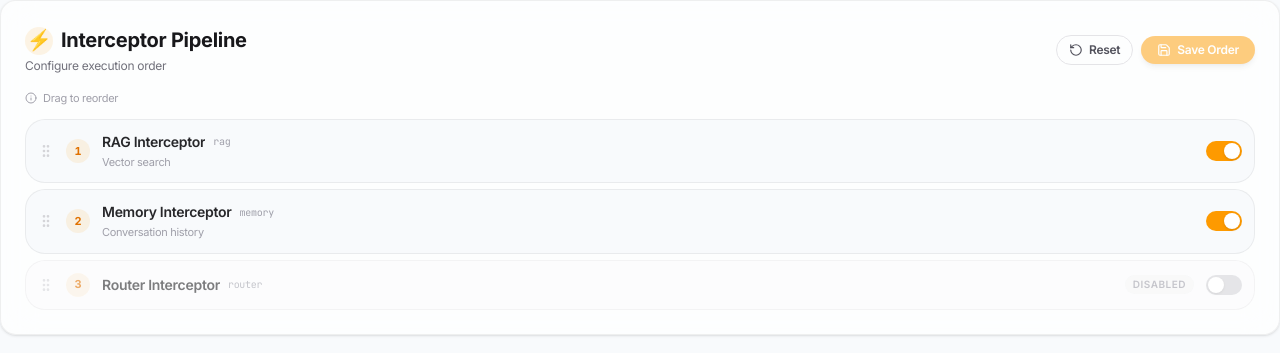
Scenario: PipelineConfigCard › toggles interceptor enabled state
Expected: the text "RAG Interceptor" is shown, [102, 132, 205, 152]
Click the button named "Toggle RAG Interceptor". click: (1224, 151)
box: [1206, 141, 1242, 161]
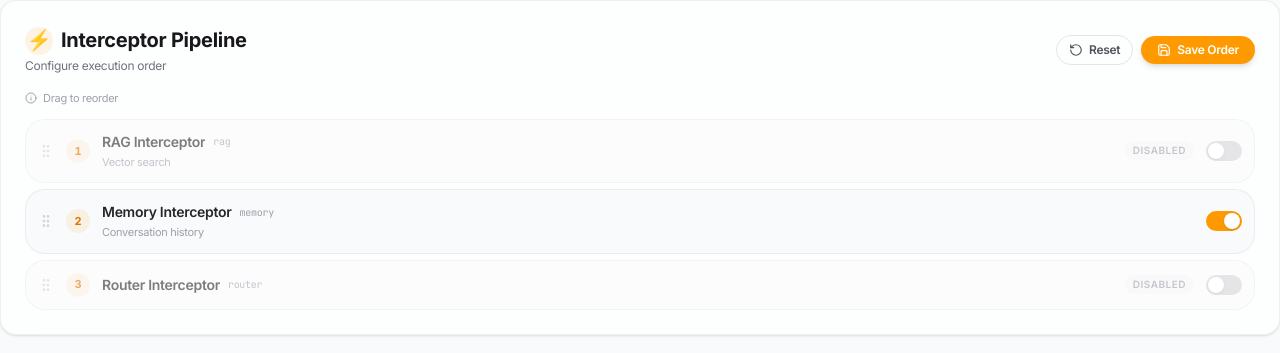
Expected: the button "Save Order" is enabled, [1141, 36, 1255, 64]
